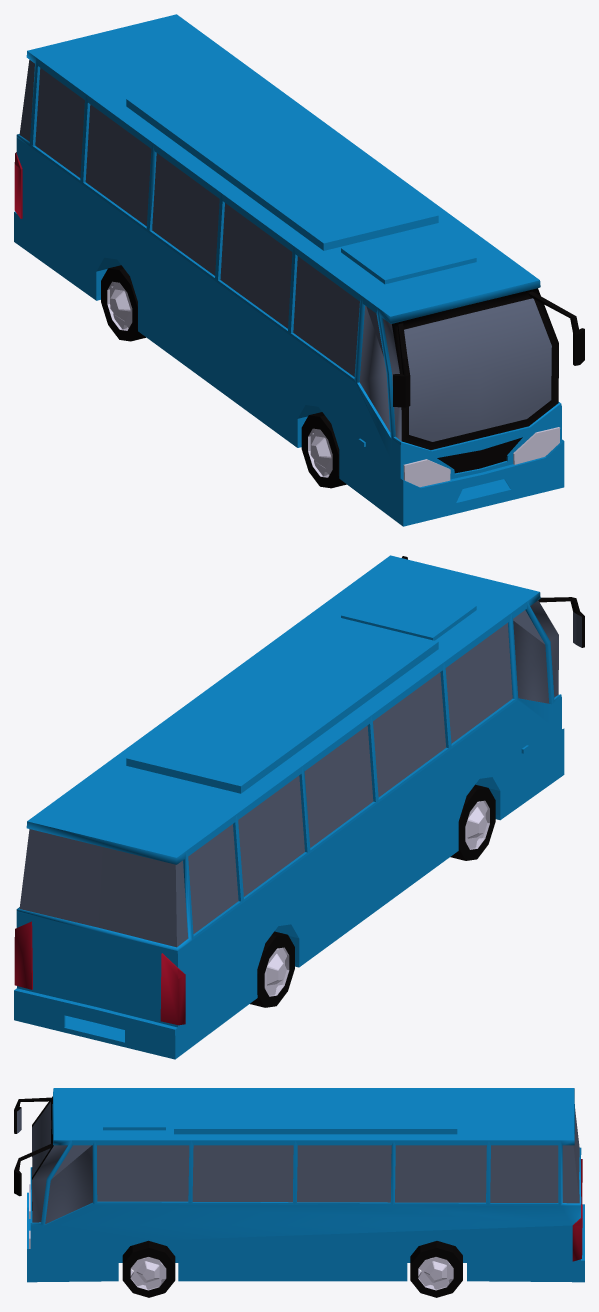
File: veicolo_pullman.glb
The picture shows the model from 3 angles, top to bottom: view 1: azimuth 30°, elevation 25°; view 2: azimuth 150°, elevation 25°; view 3: azimuth 270°, elevation 25°; orthographic projection. The views are drawn at different scales.
Parts seen in each view (by area): view 1: sb_modello; view 2: sb_modello; view 3: sb_modello.
Boxes of the visible parts, x1,y1,x2,y2 form: sb_modello: [14, 14, 584, 526]; sb_modello: [14, 555, 584, 1059]; sb_modello: [14, 1088, 584, 1297].
Size of the model in its own units: 3.81 by 4.27 by 13.7.
